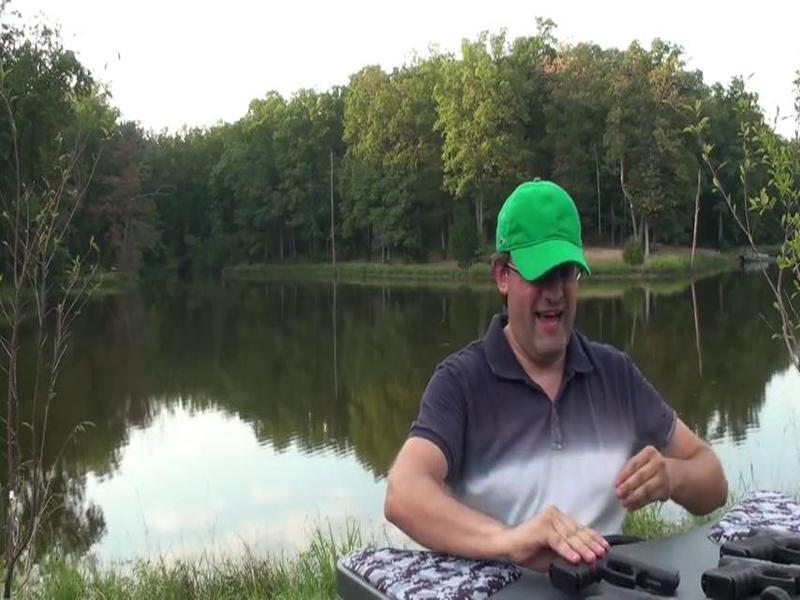Pistola: (542, 538, 684, 598)
